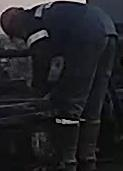helmet: (0, 6, 24, 44)
vest: (26, 0, 121, 58)
